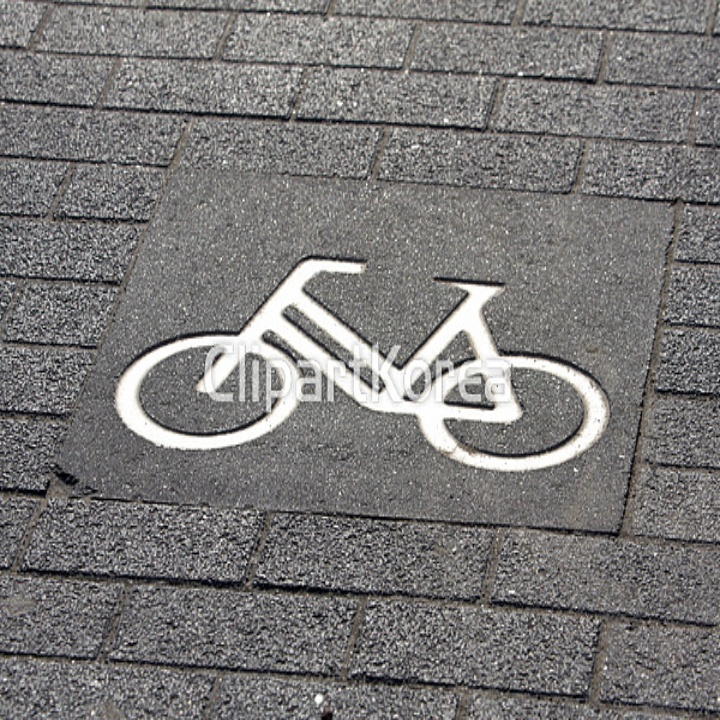bicycle: (113, 255, 613, 473)
